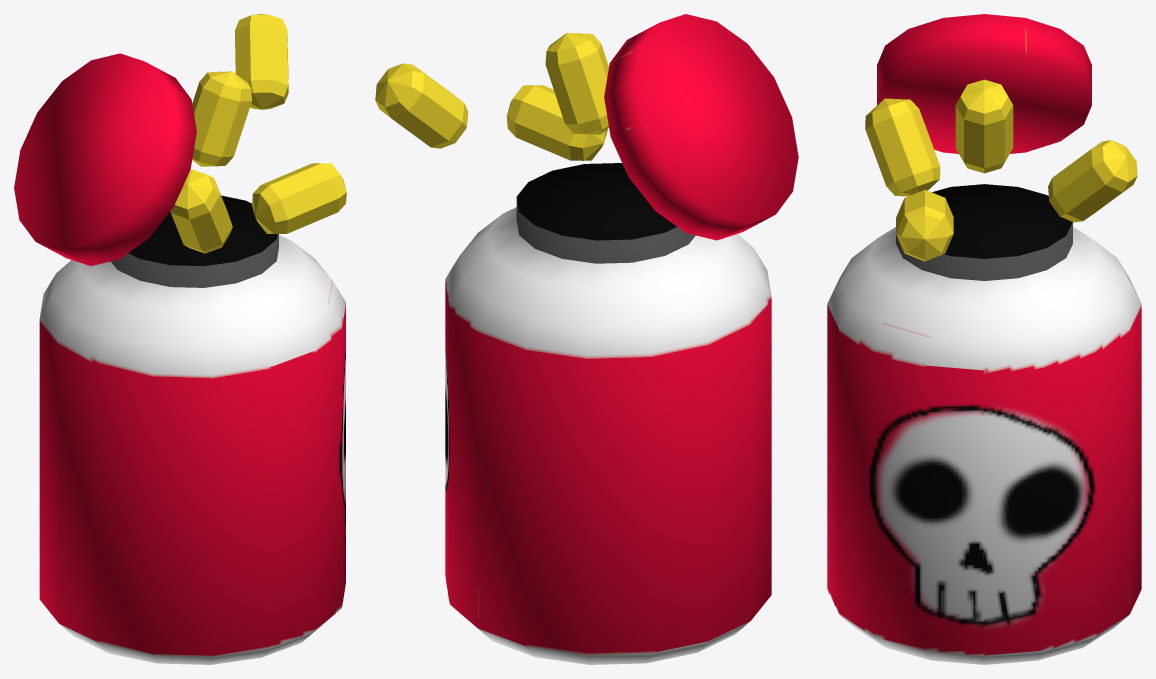
Rendered from pills.glb.
The picture shows the model from 3 angles, left to right: view 1: azimuth 30°, elevation 25°; view 2: azimuth 150°, elevation 25°; view 3: azimuth 270°, elevation 25°; orthographic projection. The views are drawn at different scales.
Visible parts, largest first — view 1: Pills; view 2: Pills; view 3: Pills.
Part boxes in pixels (bbox=[...]): Pills: bbox=[14, 14, 346, 664]; Pills: bbox=[375, 14, 798, 664]; Pills: bbox=[827, 14, 1141, 664].
Size of the model in its own units: 2.33 by 3.98 by 2.
Materials: 1 (1 with a texture image).
